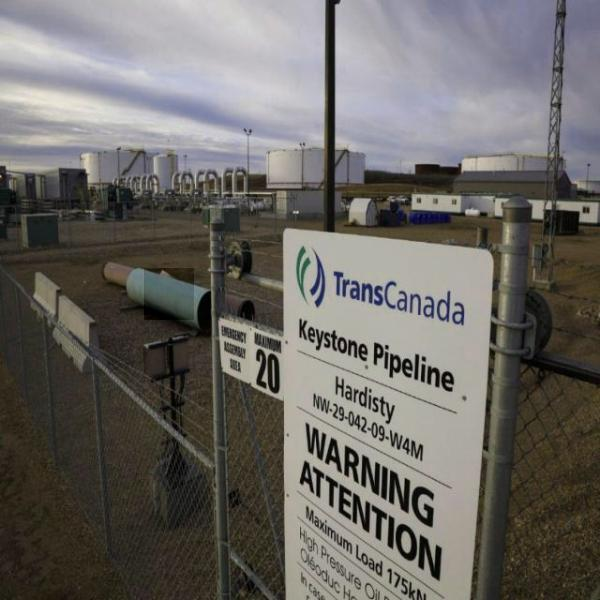no leak: (144, 268, 194, 320)
